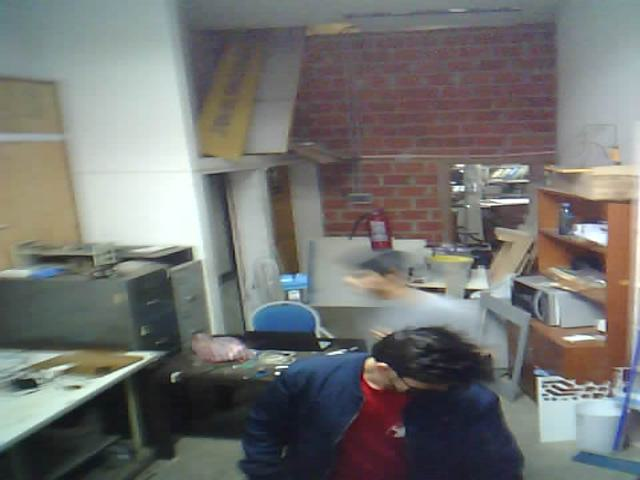person: (239, 284, 533, 480)
